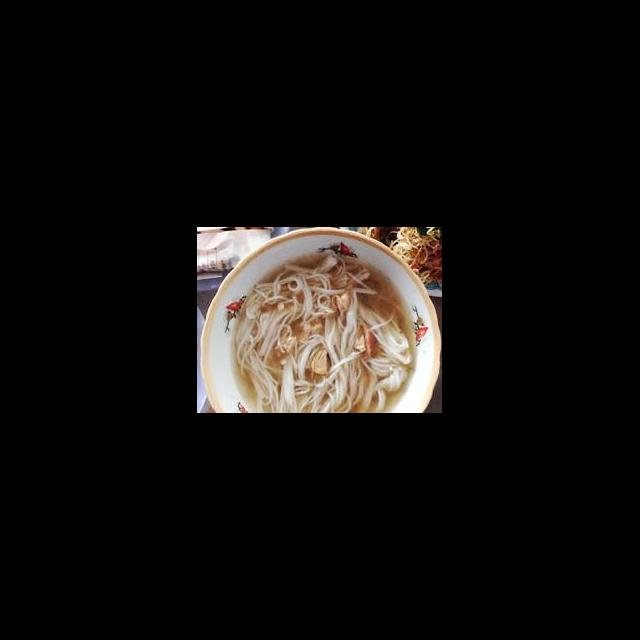bun: (228, 246, 422, 413)
